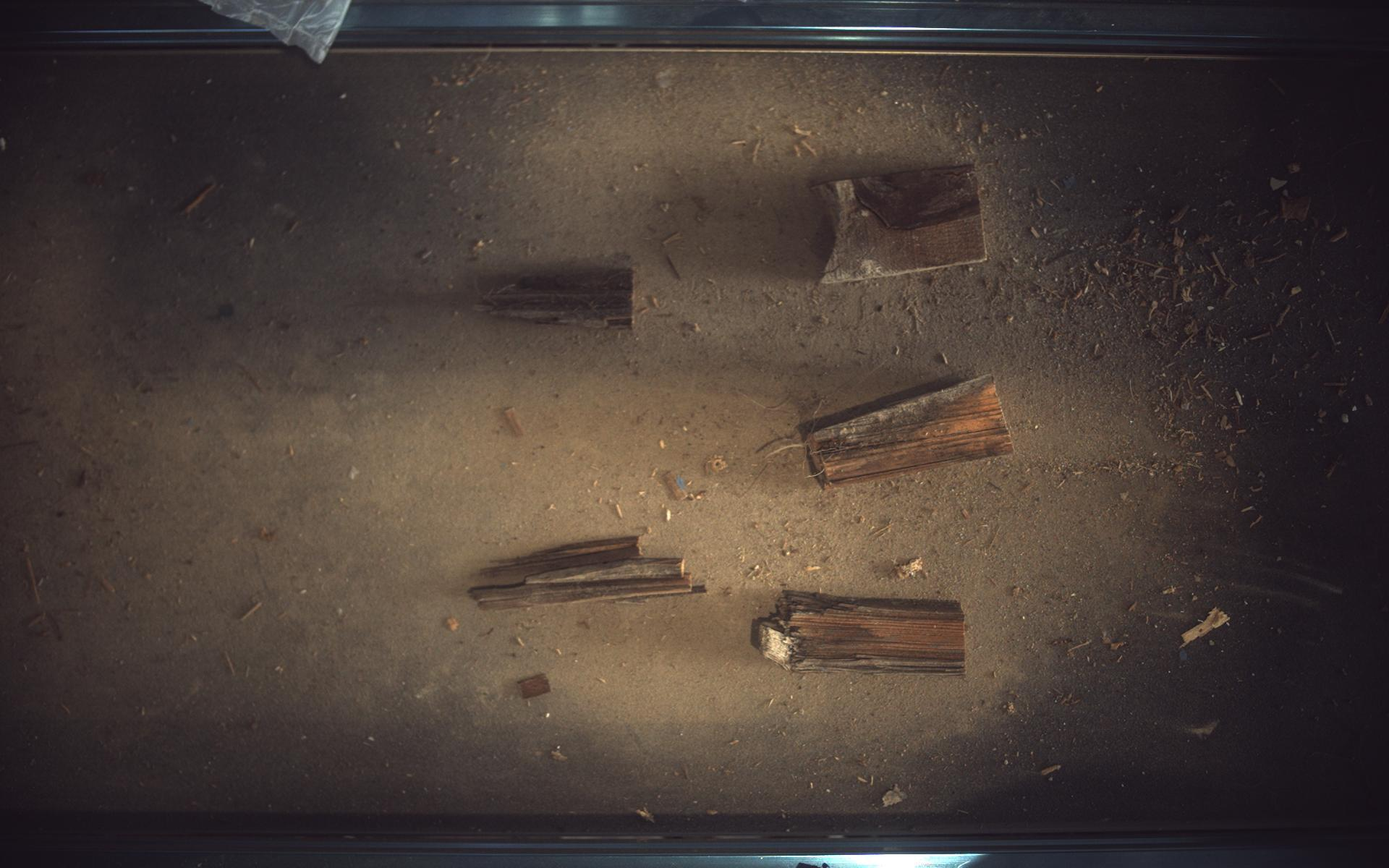wood: (808, 375, 1014, 489), (816, 163, 989, 284), (752, 591, 967, 676), (470, 536, 706, 609), (478, 267, 634, 328)
